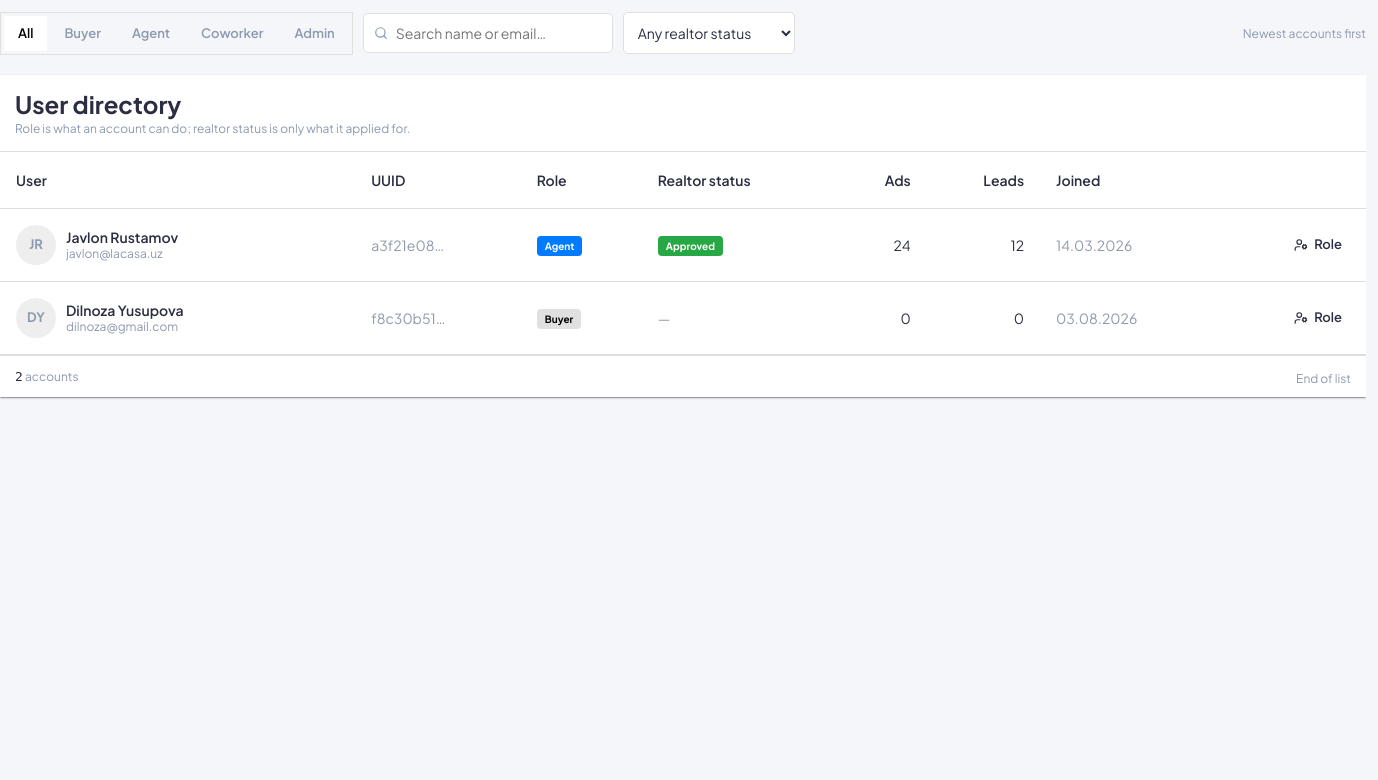
Test case: UsersScreen › drops to the skeleton on a filter change rather than holding the old rows
Expected: the text "Javlon Rustamov" is shown, top-left (66, 228), bottom-right (178, 246)
What coordinates should you click on to do the following:
click the button "Coworker"
I would click on:
 (232, 33)
Its box is top-left (187, 16), bottom-right (277, 51).
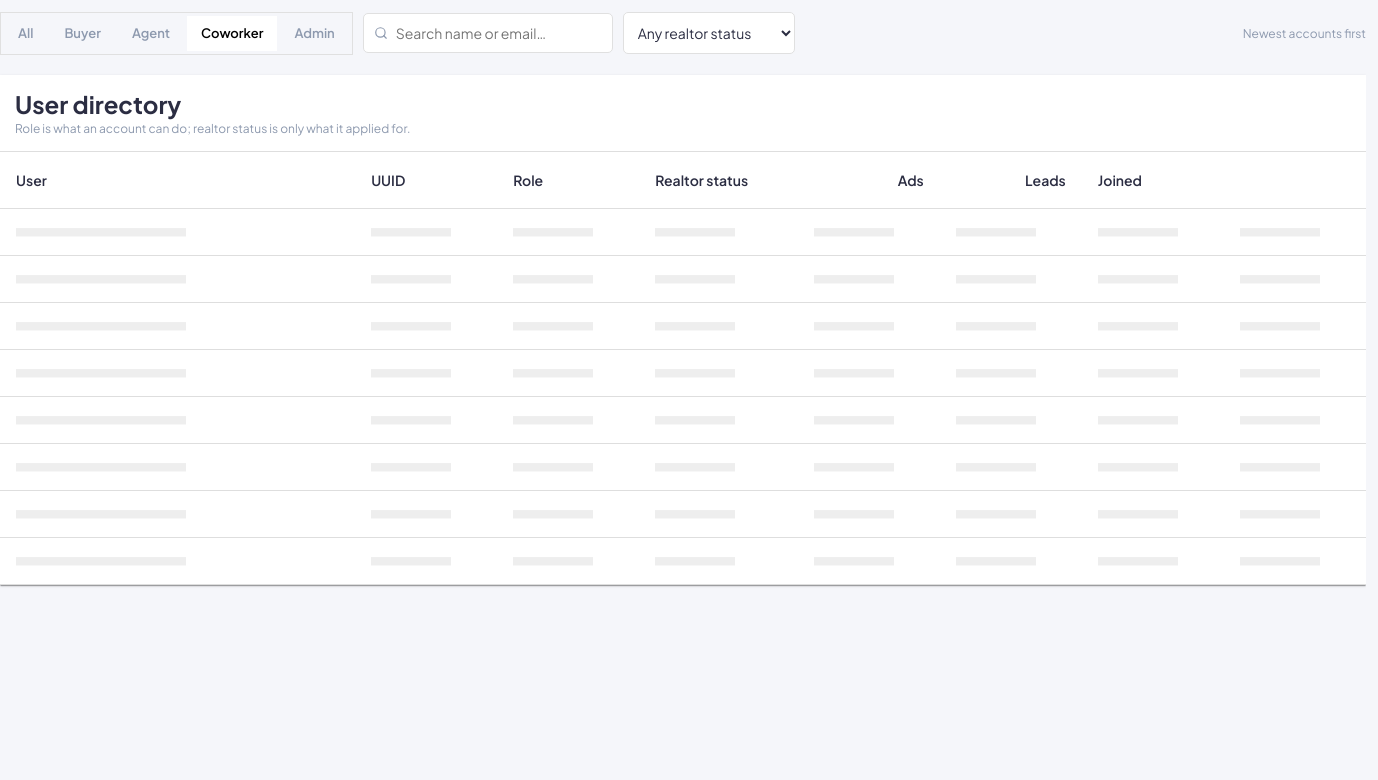
Now the text "Javlon Rustamov" is gone
